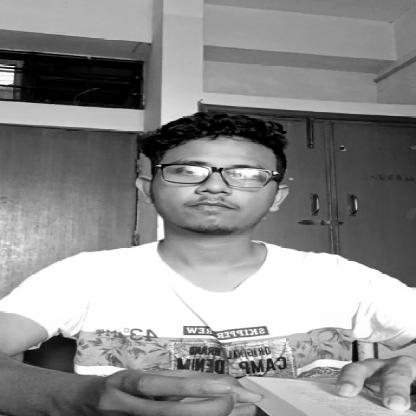Normal: (148, 137, 286, 227)
